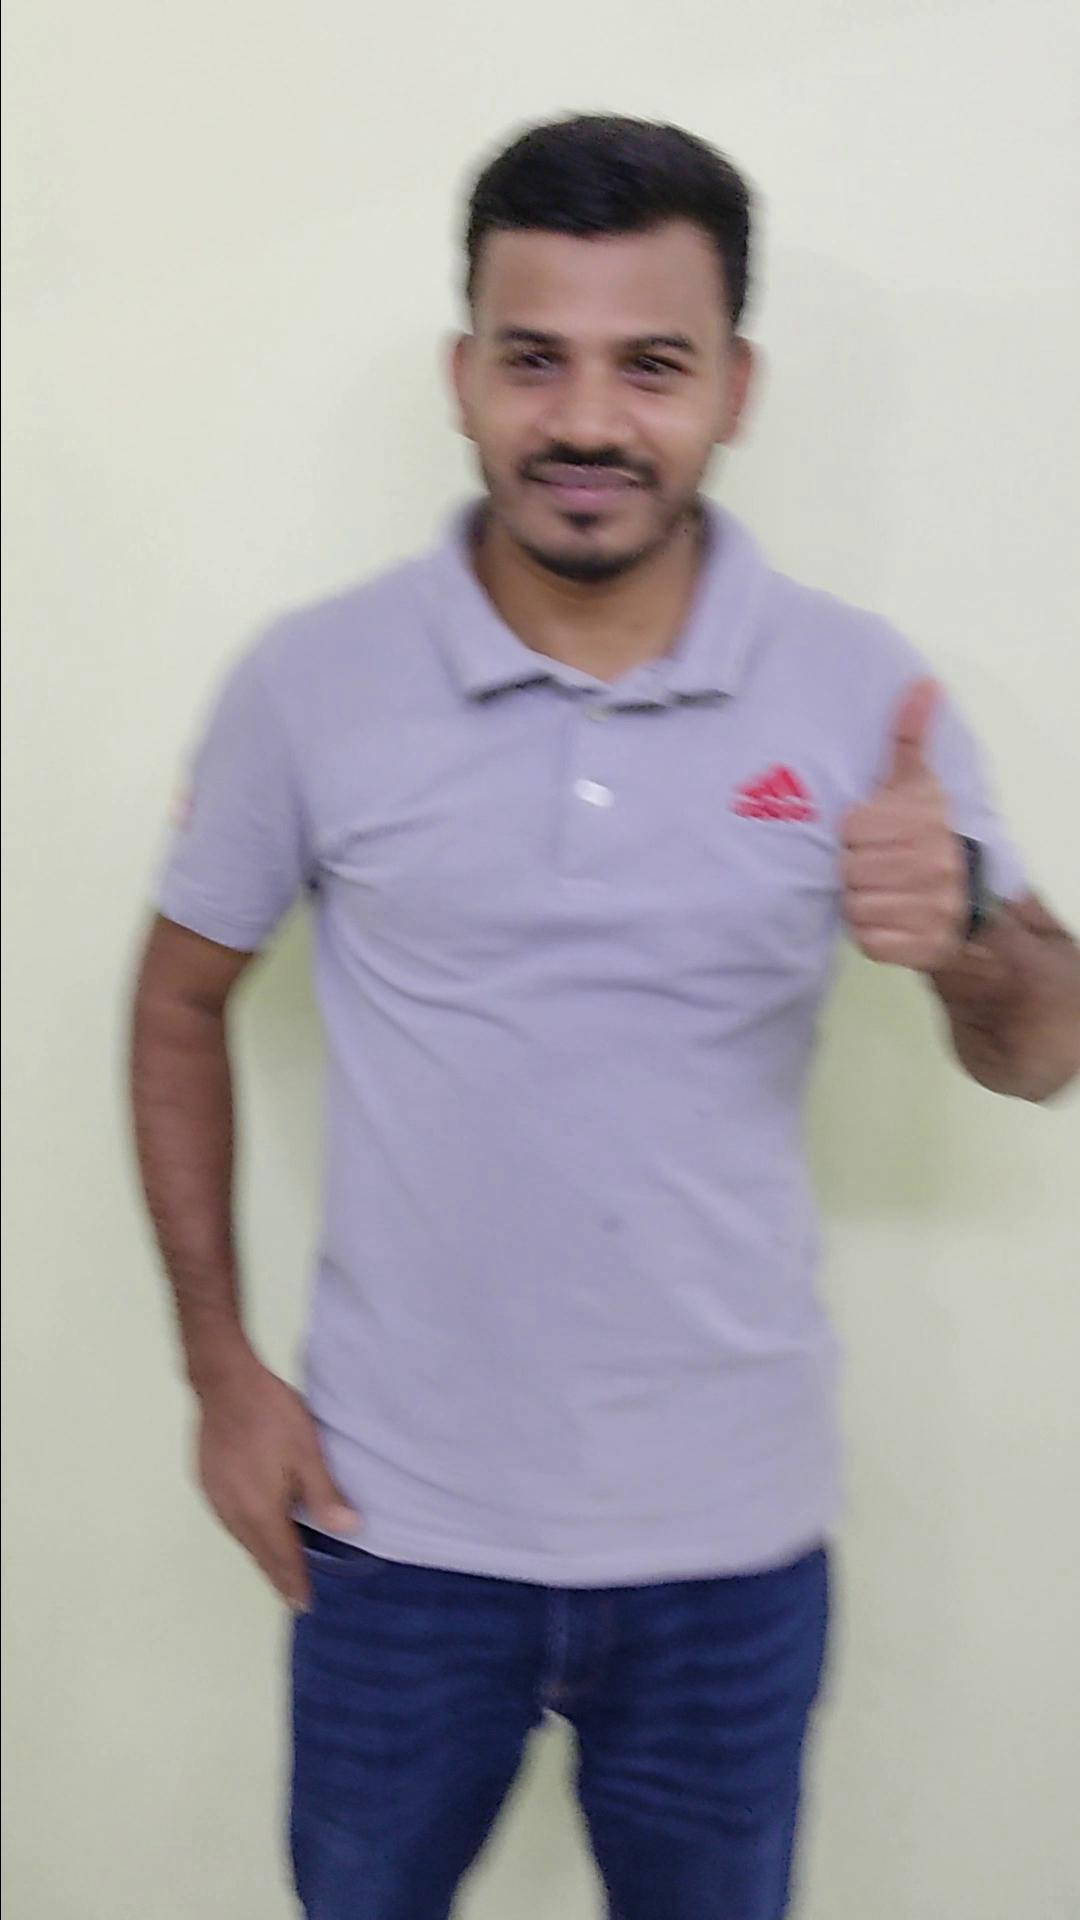Like: (798, 657, 1011, 982)
None: (158, 1336, 371, 1626)
